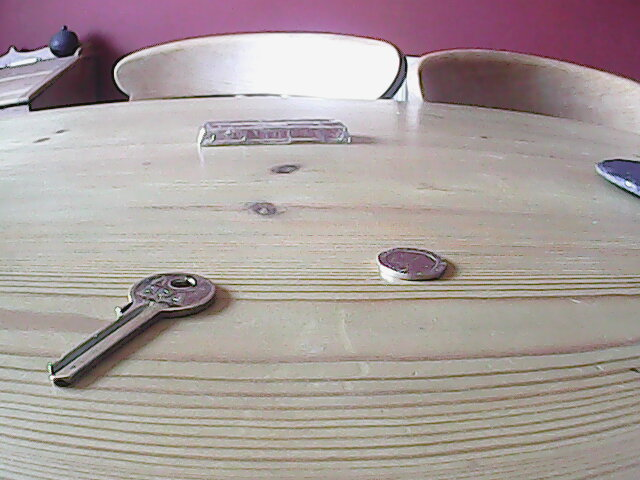Coin: (373, 245, 450, 286)
Foil: (194, 119, 354, 149)
Key: (48, 273, 217, 390)
